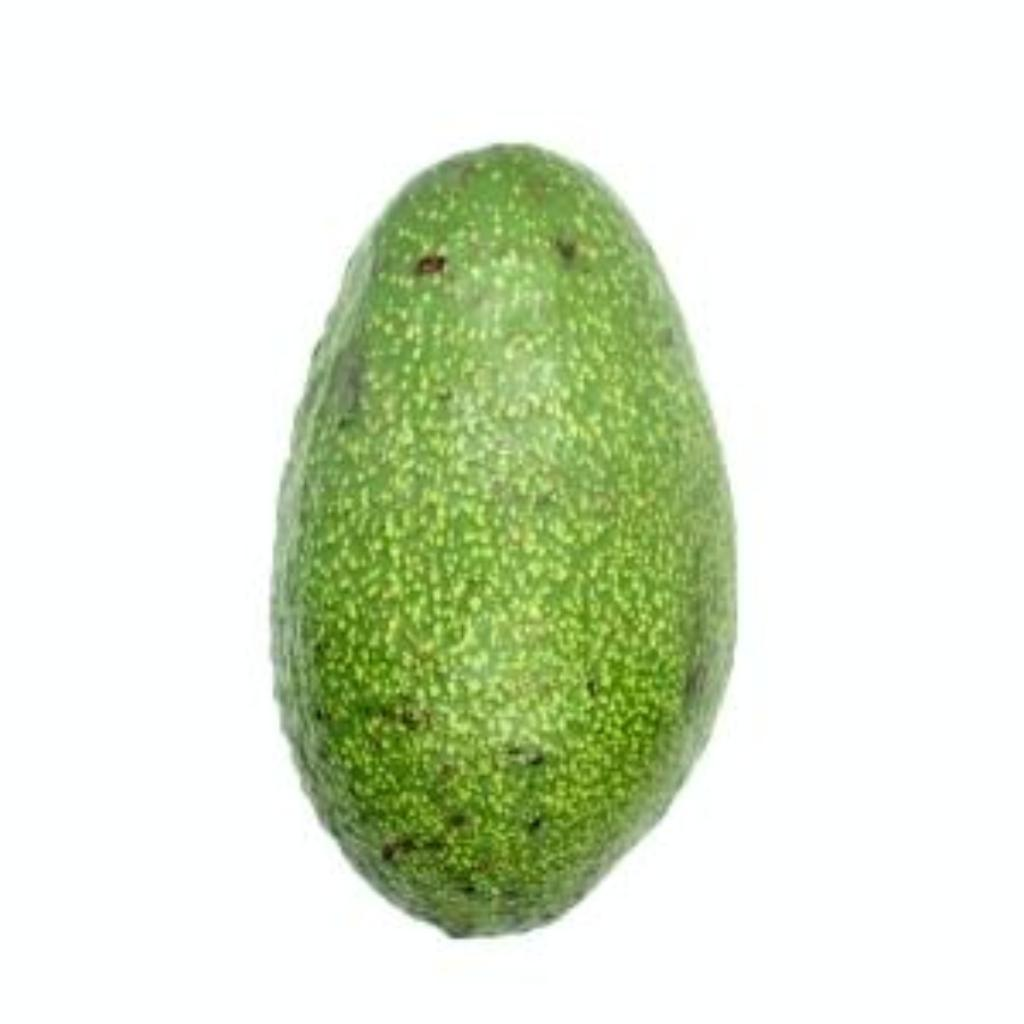cercospora: (270, 101, 748, 948)
